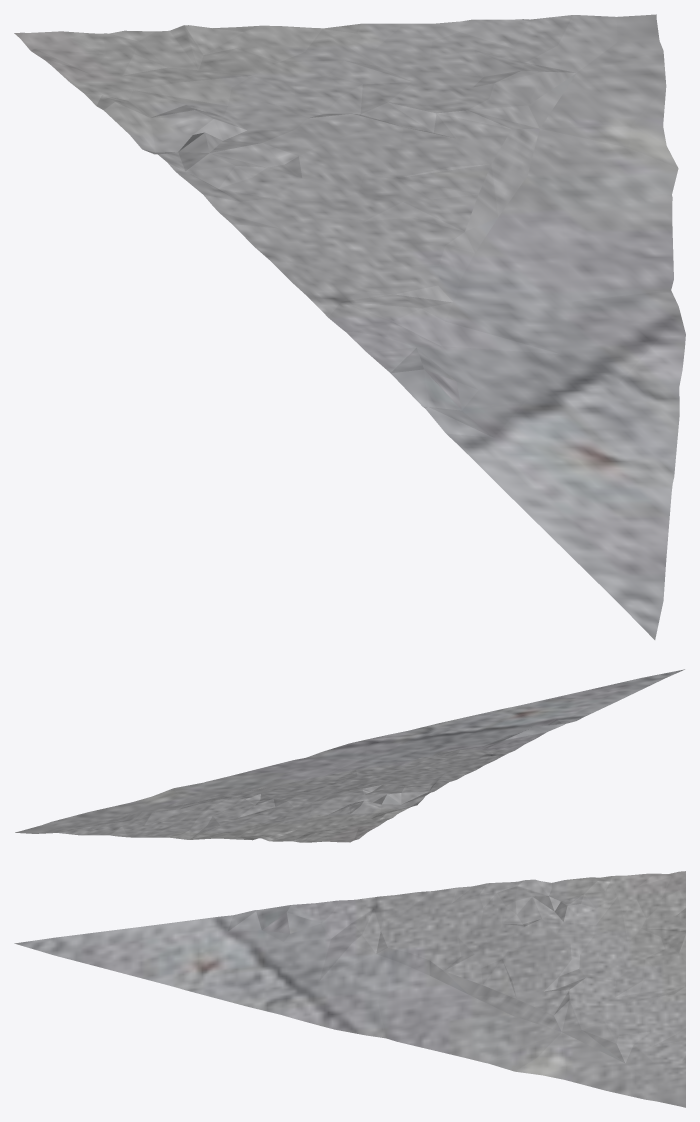
3 views of the same model, one above another, from view 1: azimuth 30°, elevation 25°; view 2: azimuth 150°, elevation 25°; view 3: azimuth 270°, elevation 25° (orthographic). The views are drawn at different scales.
Bounding box in the file's own units: 1.3 × 0.2663 × 2.24.
1 material, 1 textured.
